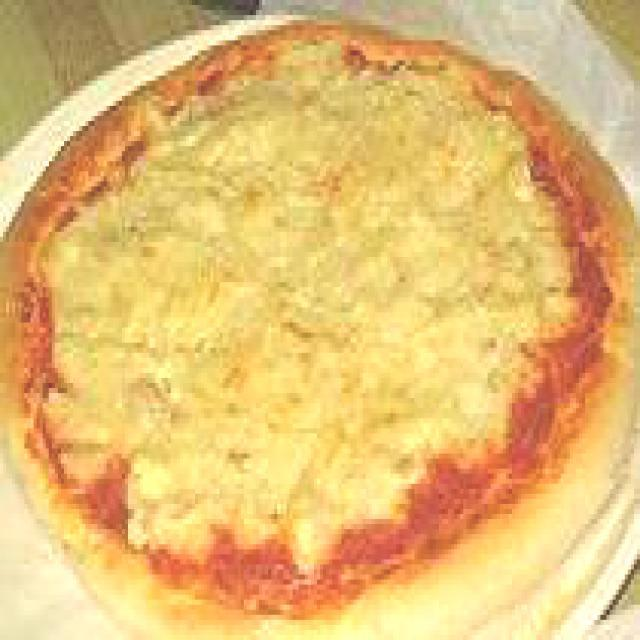Pizza: (0, 0, 637, 635)
